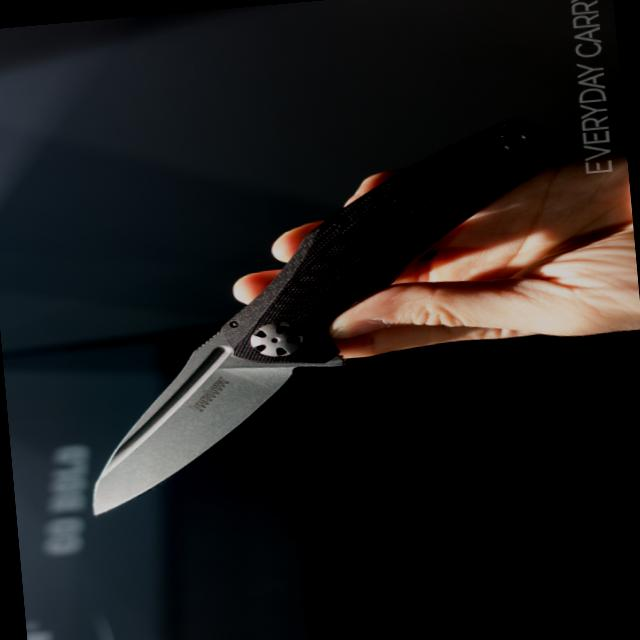knife: (48, 105, 590, 524)
